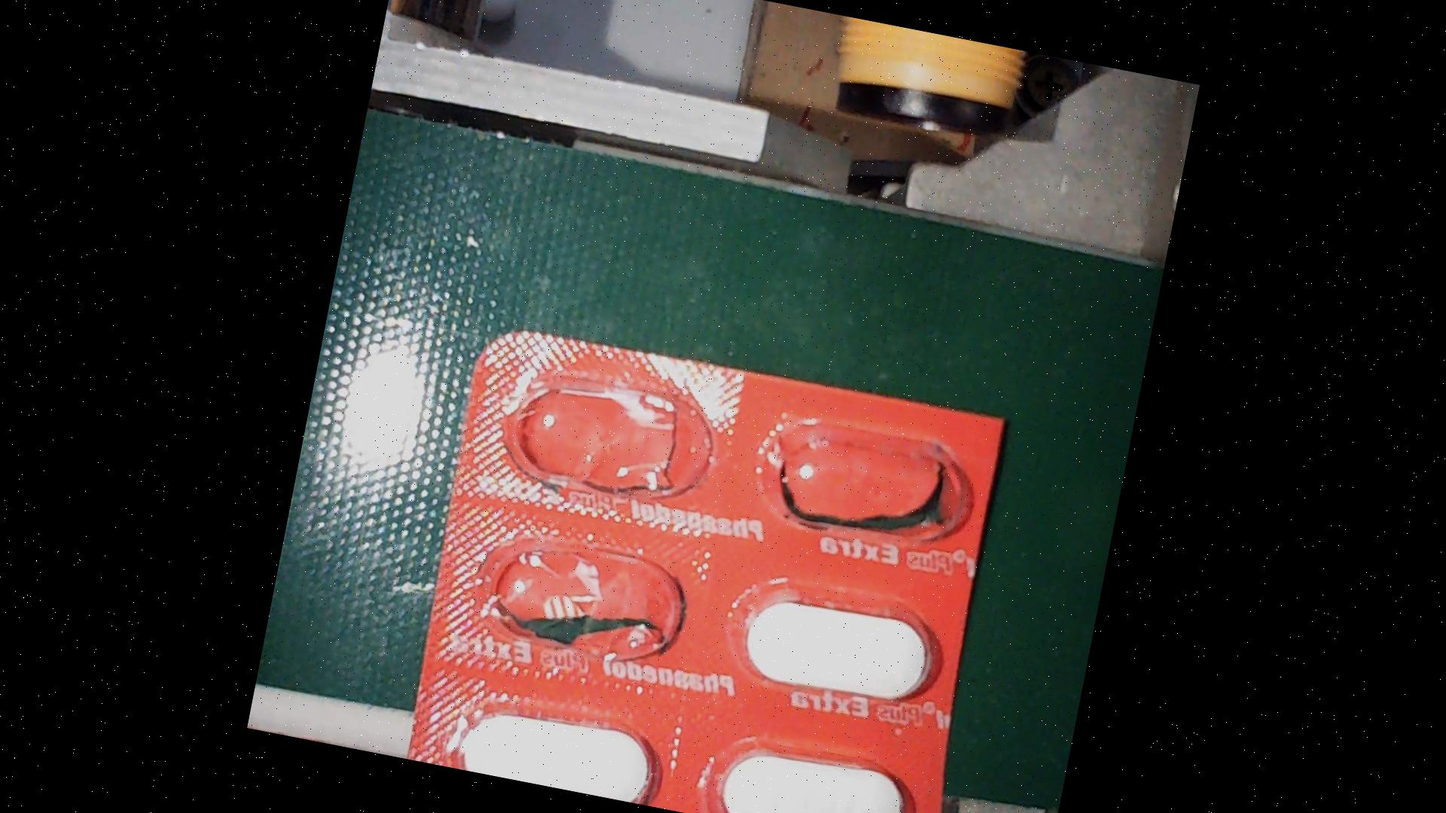Empty: (469, 528, 701, 683), (495, 360, 727, 515), (754, 409, 986, 564)
Full: (723, 569, 955, 725), (453, 683, 678, 809), (704, 724, 928, 813)
